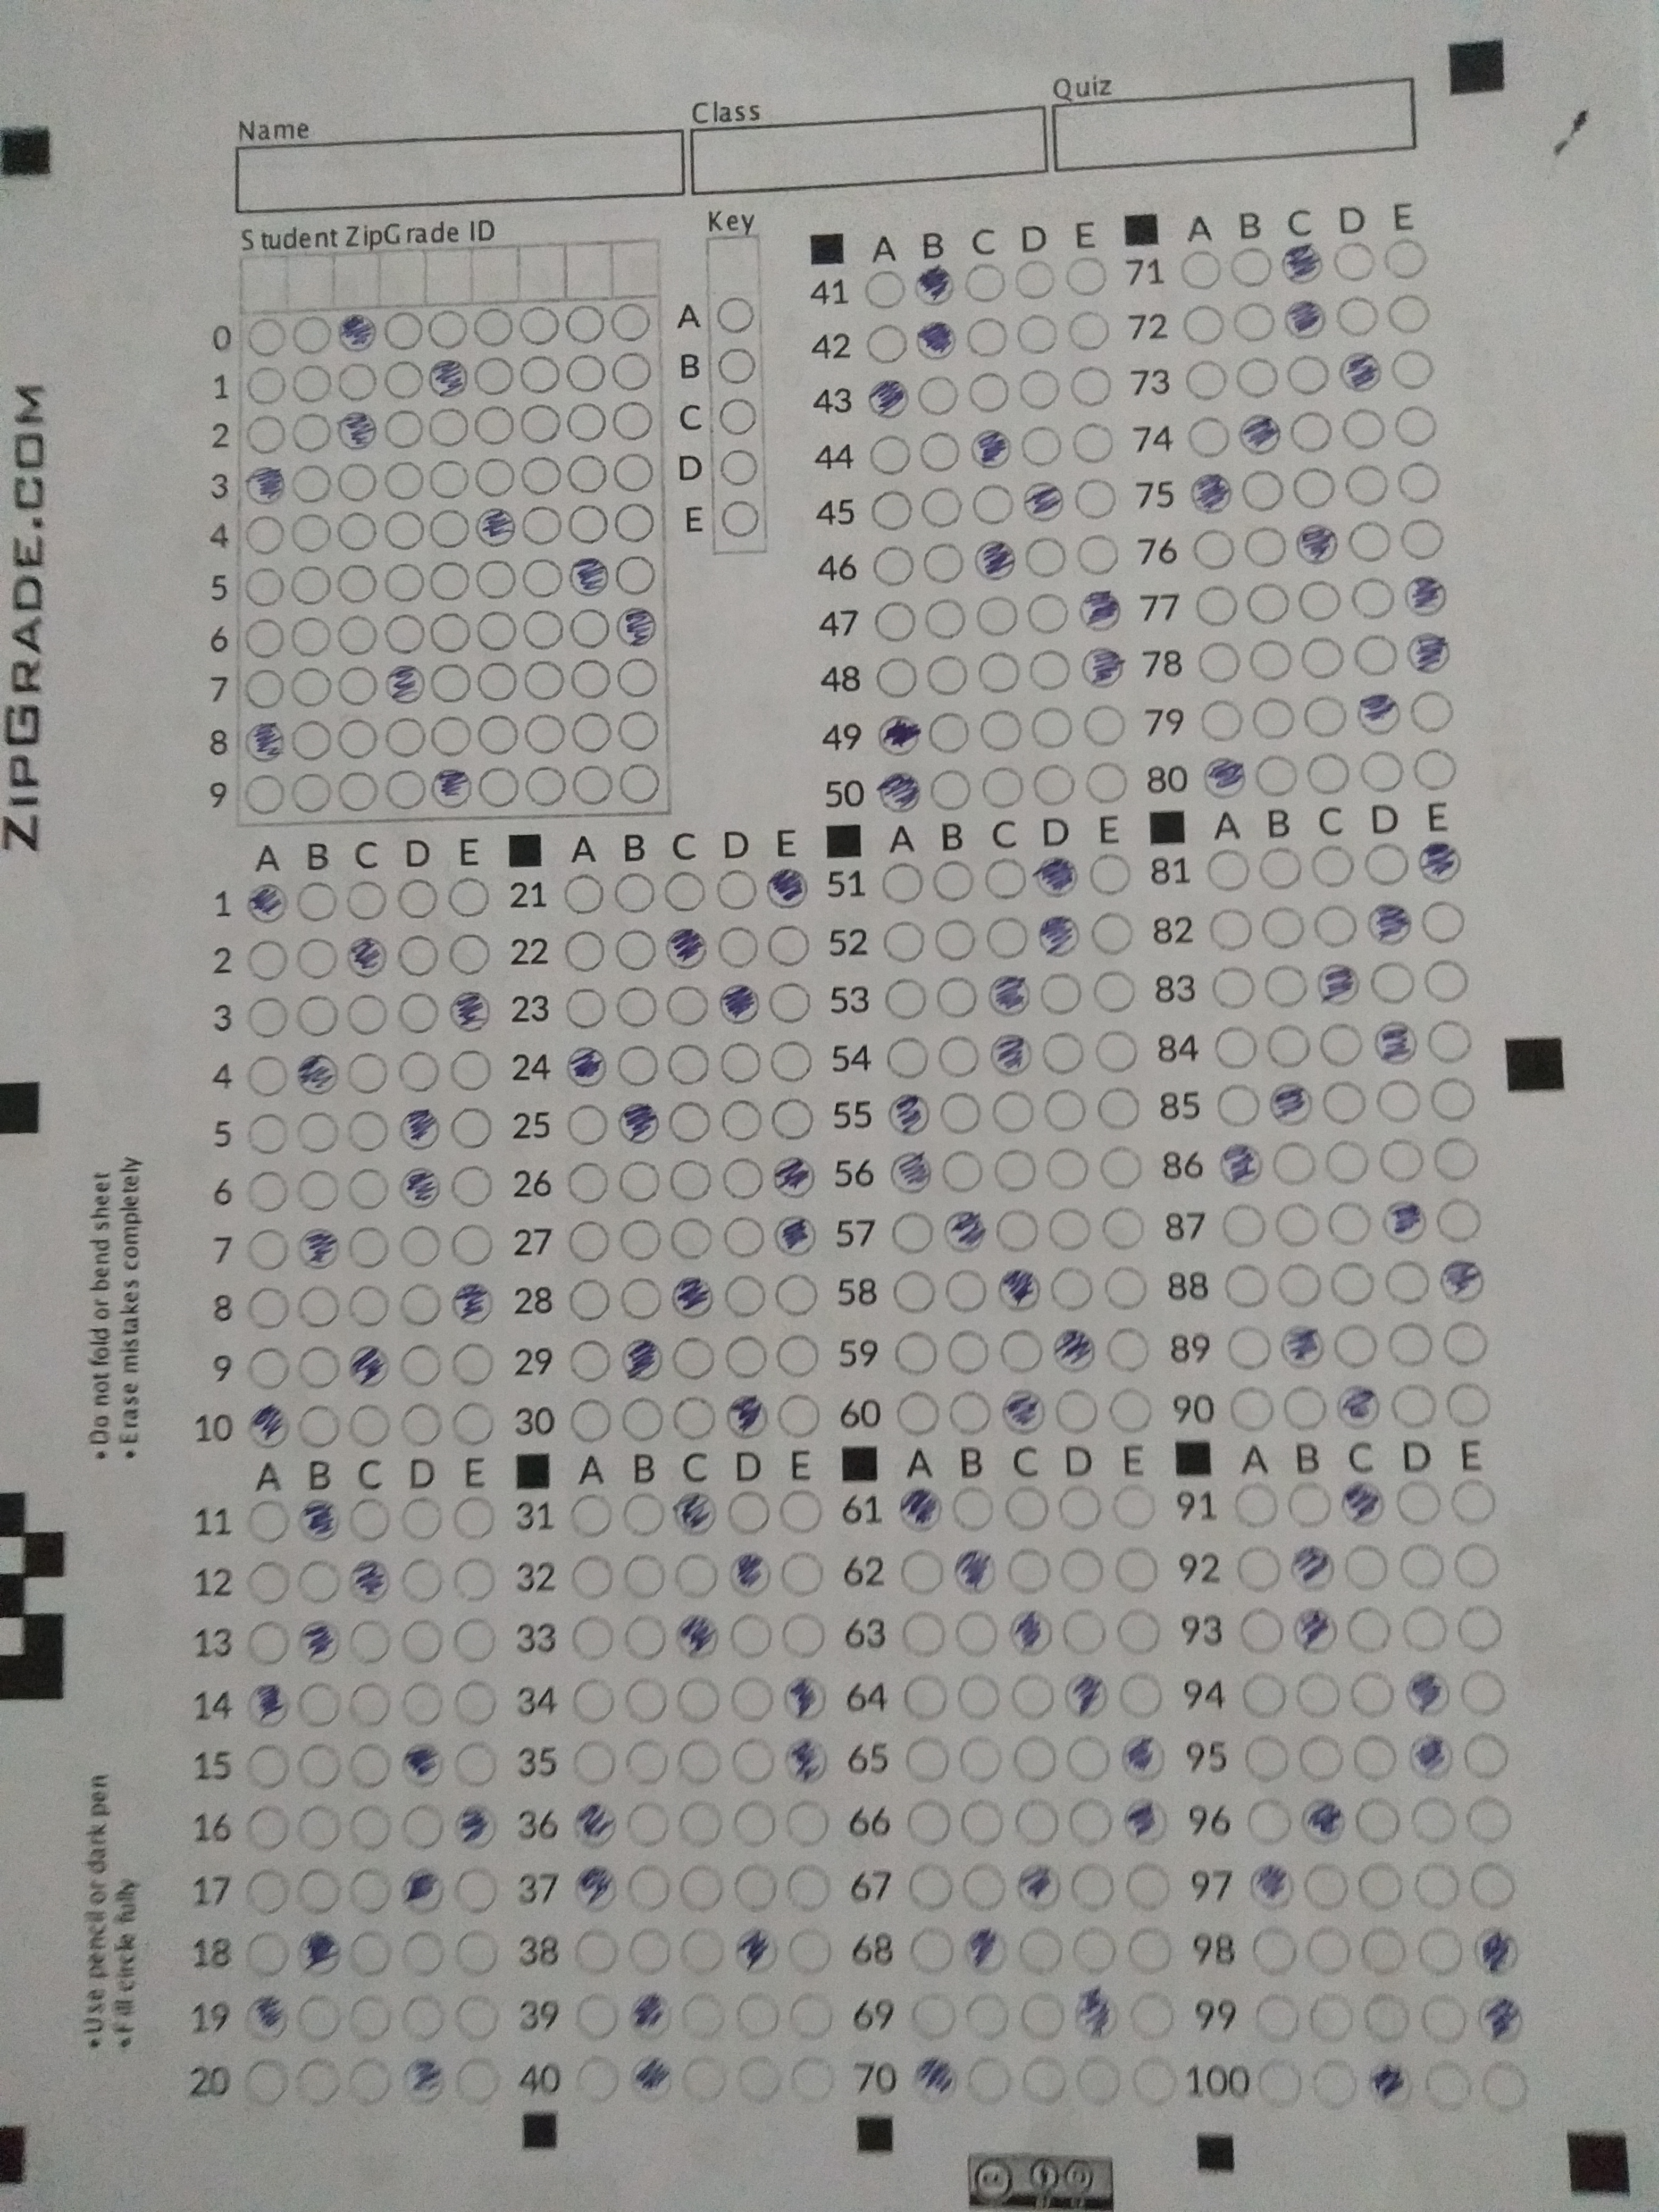not-c: (903, 1857, 958, 1914), (1358, 1987, 1412, 2047), (1230, 1541, 1290, 1594), (904, 1987, 958, 2043), (1420, 2059, 1474, 2114), (1246, 1923, 1302, 1977), (1457, 1667, 1514, 1719), (728, 2052, 788, 2102), (1310, 2052, 1359, 2113), (239, 1923, 291, 1979), (1239, 1728, 1291, 1784), (1255, 2050, 1303, 2109), (788, 2052, 842, 2104), (1127, 2054, 1182, 2106), (1480, 2059, 1532, 2113), (1415, 1993, 1469, 2045), (1410, 1857, 1462, 1911), (1295, 1730, 1349, 1782), (1232, 1601, 1286, 1653), (570, 2048, 620, 2104), (1122, 1925, 1178, 1975), (1460, 1730, 1516, 1780), (1443, 1376, 1493, 1432), (676, 1925, 728, 1977), (1068, 1860, 1121, 1912), (239, 1864, 289, 1918), (570, 1989, 620, 2043), (1117, 1667, 1168, 1721), (1065, 1794, 1115, 1848), (1018, 1989, 1068, 2043), (1251, 1989, 1302, 2043), (1413, 1926, 1467, 1977), (1352, 1860, 1406, 1911), (1392, 1540, 1446, 1590), (676, 1993, 732, 2041), (1349, 631, 1405, 679), (1307, 1987, 1354, 2045), (451, 1862, 502, 1914), (242, 2055, 293, 2107), (568, 1923, 619, 1975), (894, 1545, 945, 1597), (1065, 1730, 1115, 1782), (957, 1796, 1007, 1848), (904, 1925, 957, 1975), (1073, 2054, 1124, 2106), (1356, 1925, 1408, 1975), (1455, 1604, 1506, 1656), (1223, 1383, 1276, 1433), (1429, 1134, 1481, 1184), (1202, 904, 1255, 954), (293, 1864, 342, 1918), (453, 1925, 502, 1979), (1127, 1986, 1176, 2040), (1467, 1857, 1516, 1911), (1354, 1728, 1403, 1782), (242, 1799, 293, 1850), (451, 1993, 502, 2043), (674, 1797, 725, 1848), (622, 1925, 673, 1975), (870, 648, 920, 698), (1103, 1322, 1154, 1372), (1058, 1545, 1108, 1595), (897, 1669, 948, 1719), (1293, 1667, 1344, 1717), (1237, 1669, 1288, 1719), (1452, 1540, 1502, 1590), (786, 1991, 838, 2040), (887, 1264, 939, 1313), (965, 2054, 1014, 2106), (1303, 1923, 1352, 1975), (1239, 1796, 1291, 1844), (1466, 1792, 1514, 1844), (1380, 1258, 1432, 1306), (1194, 697, 1246, 745), (964, 1989, 1011, 2043), (1229, 1480, 1283, 1527), (450, 1738, 498, 1789), (399, 1799, 448, 1850), (347, 1928, 397, 1977), (779, 1611, 829, 1660), (565, 1613, 615, 1662), (566, 1737, 617, 1785), (782, 1797, 833, 1846), (728, 1797, 777, 1848), (786, 1925, 836, 1973), (890, 1325, 939, 1376), (890, 1386, 941, 1435), (1000, 1484, 1051, 1533), (1054, 1482, 1103, 1533), (1006, 1545, 1054, 1595), (1011, 1731, 1060, 1782), (1375, 1134, 1424, 1184), (1314, 1019, 1364, 1068), (1262, 1021, 1312, 1069), (1398, 514, 1448, 563), (399, 1993, 446, 2045), (455, 2055, 502, 2107), (1066, 474, 1119, 521), (1021, 2054, 1068, 2106), (1270, 1202, 1323, 1249), (728, 1737, 777, 1785), (680, 2054, 728, 2102), (1009, 1672, 1058, 1721), (903, 1797, 951, 1846), (1408, 1796, 1457, 1844), (1279, 1385, 1328, 1433), (1223, 1320, 1272, 1369), (1246, 634, 1295, 683), (296, 1738, 343, 1789), (347, 1862, 394, 1912), (296, 2055, 343, 2106), (565, 1493, 615, 1540), (669, 1550, 720, 1597), (1019, 536, 1070, 583), (1091, 1026, 1141, 1073), (1107, 1385, 1154, 1435), (955, 1731, 1002, 1782), (1018, 1925, 1065, 1975), (1302, 1860, 1349, 1911), (1351, 1667, 1398, 1717), (1288, 1479, 1335, 1529), (1218, 1259, 1269, 1306), (1361, 841, 1412, 888), (1309, 838, 1356, 888), (1182, 411, 1232, 458), (674, 1672, 720, 1724), (962, 1860, 1007, 1912), (1126, 1860, 1171, 1912), (399, 1494, 448, 1541), (244, 1557, 291, 1606), (345, 1803, 394, 1850), (296, 1803, 343, 1851), (777, 1487, 826, 1534), (727, 1676, 775, 1723), (626, 1864, 673, 1912), (786, 1865, 835, 1912), (735, 1991, 782, 2040), (870, 596, 918, 643), (976, 650, 1023, 698), (1084, 759, 1133, 806), (951, 1609, 1000, 1656), (897, 1609, 946, 1656), (1012, 1797, 1060, 1846), (1070, 1925, 1117, 1973), (1354, 1797, 1403, 1844), (1345, 1606, 1392, 1655), (1342, 1541, 1389, 1590), (1394, 1479, 1441, 1527), (1450, 1477, 1497, 1526), (1391, 1383, 1438, 1432), (1385, 1322, 1434, 1369), (1326, 1259, 1375, 1306), (1276, 1259, 1323, 1308), (1218, 1200, 1265, 1249), (1436, 1197, 1485, 1244), (1427, 1075, 1476, 1122), (1368, 958, 1417, 1005), (399, 1552, 444, 1602), (401, 1928, 446, 1979), (570, 1674, 615, 1724), (1114, 1608, 1164, 1653), (1063, 1606, 1108, 1656), (904, 1733, 950, 1784), (1424, 1019, 1474, 1064), (1201, 846, 1251, 892), (1303, 749, 1354, 794), (242, 312, 289, 359), (566, 1555, 613, 1602), (676, 1738, 723, 1785), (680, 1864, 727, 1911), (734, 1864, 781, 1911), (1082, 700, 1129, 747), (1030, 759, 1077, 806), (978, 761, 1025, 808), (1087, 850, 1134, 897), (1101, 1263, 1148, 1310), (997, 1325, 1044, 1372), (945, 1327, 992, 1374), (1051, 1386, 1098, 1433), (948, 1486, 995, 1533), (1401, 1604, 1448, 1651), (1333, 1322, 1380, 1369), (1216, 1082, 1263, 1129), (1319, 1080, 1366, 1127), (1260, 904, 1307, 951), (1412, 744, 1459, 791), (1302, 693, 1349, 740), (1297, 578, 1344, 625), (1396, 460, 1443, 507), (239, 563, 288, 608), (296, 1993, 342, 2041), (349, 1993, 394, 2041), (347, 2057, 392, 2106), (620, 1615, 669, 1660), (626, 1737, 671, 1785), (626, 1799, 671, 1848), (864, 430, 913, 475), (978, 707, 1026, 752), (948, 1386, 993, 1435), (1115, 1545, 1161, 1594), (1213, 1021, 1258, 1069), (1419, 900, 1467, 946), (1251, 693, 1297, 742), (1300, 631, 1345, 679), (1244, 580, 1293, 625), (1349, 575, 1398, 620), (1347, 516, 1392, 564), (1188, 526, 1237, 571), (349, 1738, 392, 1789), (624, 1672, 667, 1723), (1330, 294, 1382, 336), (775, 1332, 823, 1378), (453, 1679, 498, 1726), (399, 1616, 444, 1663), (620, 1491, 666, 1538), (725, 1489, 772, 1534), (779, 1550, 824, 1597), (727, 1613, 774, 1658), (924, 596, 971, 641), (974, 592, 1019, 639), (878, 859, 925, 904), (1096, 1083, 1141, 1130), (1096, 1144, 1143, 1190), (993, 1207, 1040, 1252), (1049, 1264, 1094, 1312), (1112, 1482, 1157, 1529), (957, 1672, 1002, 1719), (1443, 1322, 1488, 1369), (1323, 1137, 1370, 1183), (1312, 904, 1359, 949), (1359, 745, 1405, 792), (1241, 467, 1286, 514), (1291, 465, 1337, 512), (1344, 462, 1389, 509), (1284, 352, 1331, 397), (1176, 246, 1223, 291), (349, 1616, 392, 1665), (622, 1550, 666, 1599), (859, 266, 908, 310), (1373, 1078, 1422, 1122), (1208, 965, 1256, 1008), (1422, 958, 1471, 1001), (298, 1677, 340, 1728), (721, 1271, 767, 1317), (775, 1393, 821, 1439), (453, 1557, 498, 1602), (1068, 364, 1114, 409), (1270, 1141, 1316, 1186), (1197, 637, 1243, 683), (1232, 300, 1277, 345), (239, 617, 286, 660), (521, 606, 565, 653), (1063, 253, 1110, 296), (1068, 420, 1115, 463), (969, 482, 1016, 526), (1047, 1207, 1094, 1251), (945, 1264, 988, 1312), (1256, 845, 1303, 888), (1412, 690, 1459, 733), (1391, 345, 1434, 392), (401, 1677, 443, 1726), (1340, 408, 1389, 449), (1382, 239, 1431, 280), (868, 545, 918, 585), (932, 916, 978, 960), (349, 1683, 392, 1728), (453, 1618, 497, 1663), (247, 1620, 291, 1665), (296, 1559, 340, 1604), (1066, 307, 1110, 352), (1016, 312, 1060, 357), (1019, 368, 1063, 413), (1026, 650, 1072, 693), (983, 857, 1028, 900), (1328, 1202, 1373, 1245), (1290, 409, 1335, 453), (1234, 355, 1279, 399), (1183, 357, 1229, 401), (1182, 300, 1225, 345), (1227, 244, 1272, 287), (774, 1273, 821, 1315), (863, 322, 910, 364), (965, 371, 1012, 413), (1262, 965, 1309, 1007), (1394, 406, 1441, 448), (427, 404, 471, 448), (521, 556, 565, 599), (920, 486, 964, 529), (929, 766, 972, 810), (1101, 1205, 1145, 1249), (1195, 583, 1239, 627), (471, 355, 516, 397), (382, 408, 423, 453), (608, 399, 653, 441), (336, 613, 378, 658), (617, 707, 659, 752), (570, 1400, 615, 1442), (1018, 427, 1063, 469), (870, 488, 915, 529), (922, 543, 967, 585), (1025, 592, 1070, 634), (1044, 1148, 1089, 1190), (1075, 535, 1122, 575), (565, 303, 608, 345), (427, 307, 469, 350), (474, 456, 518, 498), (613, 502, 657, 543), (570, 763, 613, 805), (662, 871, 706, 913), (673, 1336, 714, 1379), (918, 428, 962, 470), (1032, 705, 1073, 749), (932, 859, 974, 902), (518, 305, 563, 345), (336, 458, 376, 503), (570, 606, 610, 651), (247, 1743, 288, 1789), (1243, 526, 1288, 566), (1331, 240, 1377, 280), (291, 314, 333, 355), (291, 362, 333, 404), (383, 359, 425, 401), (565, 399, 606, 441), (521, 455, 563, 496), (718, 446, 760, 488), (336, 563, 378, 604), (613, 554, 655, 596), (336, 718, 378, 759), (383, 716, 425, 758), (430, 714, 472, 756), (477, 712, 519, 754), (525, 712, 566, 754), (572, 711, 613, 752), (570, 657, 612, 698), (615, 657, 657, 698), (336, 664, 378, 705), (291, 667, 333, 709), (242, 669, 284, 711), (476, 660, 518, 702), (430, 660, 472, 702), (477, 610, 519, 651), (615, 928, 657, 970), (345, 880, 387, 921), (565, 930, 606, 972), (296, 880, 338, 921), (296, 995, 338, 1036), (347, 993, 389, 1035), (448, 934, 490, 975), (296, 937, 338, 979), (396, 935, 437, 977), (714, 869, 756, 911), (613, 871, 655, 913), (336, 768, 378, 810), (563, 873, 605, 914), (385, 768, 427, 810), (397, 991, 439, 1033), (247, 939, 289, 981), (289, 719, 331, 761), (716, 927, 758, 968), (565, 988, 606, 1029), (397, 1050, 439, 1092), (347, 1052, 389, 1094), (769, 981, 810, 1022), (769, 925, 810, 967), (450, 1106, 491, 1148), (451, 1049, 493, 1090), (884, 920, 925, 961), (770, 1040, 812, 1082), (617, 1043, 659, 1085), (720, 1099, 762, 1141), (772, 1097, 814, 1139), (720, 1042, 762, 1083), (615, 986, 657, 1028), (1040, 972, 1082, 1014), (887, 1036, 929, 1078), (936, 975, 978, 1017), (885, 977, 927, 1019), (296, 1111, 338, 1153), (246, 1054, 288, 1096), (566, 1162, 608, 1204), (399, 1282, 441, 1324), (349, 1226, 390, 1268), (401, 1223, 443, 1264), (451, 1223, 493, 1264), (451, 1165, 493, 1207), (247, 1287, 289, 1329), (298, 1284, 340, 1325), (347, 1284, 389, 1325), (247, 1228, 289, 1270), (1091, 913, 1133, 954), (1044, 1089, 1086, 1130), (992, 1090, 1033, 1132), (941, 1150, 983, 1191), (667, 1042, 709, 1083), (568, 1219, 610, 1261), (620, 1219, 662, 1261), (669, 1217, 711, 1259), (892, 1212, 934, 1254), (725, 1336, 767, 1378), (721, 1216, 763, 1258), (568, 1278, 610, 1320), (620, 1278, 662, 1320), (619, 1160, 660, 1202), (669, 1158, 711, 1200), (721, 1158, 763, 1200), (674, 1397, 716, 1439), (401, 1345, 443, 1386), (451, 1343, 493, 1385), (927, 655, 969, 697), (471, 307, 514, 347), (474, 402, 514, 446), (291, 460, 331, 503), (242, 514, 286, 554), (291, 563, 331, 606), (476, 766, 519, 806), (985, 918, 1028, 958), (965, 317, 1009, 357), (929, 709, 969, 752), (1253, 756, 1297, 796), (1387, 294, 1431, 334), (612, 303, 653, 343), (565, 354, 606, 394), (519, 402, 561, 442), (383, 458, 423, 500), (566, 455, 608, 495), (612, 451, 653, 491), (291, 512, 331, 554), (336, 512, 378, 552), (383, 509, 423, 550), (716, 293, 756, 334), (718, 397, 760, 437), (720, 496, 760, 538), (429, 561, 471, 601), (476, 559, 518, 599), (382, 613, 423, 653), (430, 611, 471, 653), (291, 772, 333, 812), (244, 773, 286, 813), (619, 761, 659, 803), (525, 658, 565, 700), (396, 880, 437, 920), (247, 996, 288, 1038), (525, 766, 566, 806), (448, 876, 488, 918), (568, 1104, 608, 1146), (667, 984, 708, 1026), (1040, 1033, 1082, 1073), (939, 1035, 979, 1076), (247, 1111, 288, 1153), (349, 1109, 389, 1151), (247, 1170, 289, 1211), (298, 1169, 338, 1211), (349, 1169, 389, 1211), (1094, 970, 1134, 1012), (939, 1092, 979, 1134), (568, 1341, 610, 1381), (995, 1150, 1035, 1191), (453, 1402, 493, 1444), (298, 1406, 338, 1447), (349, 1404, 389, 1446), (401, 1404, 443, 1444), (622, 1399, 664, 1439), (349, 1500, 390, 1540), (453, 1496, 493, 1538), (247, 1501, 289, 1541), (298, 1346, 338, 1388), (247, 1348, 289, 1388), (1014, 260, 1056, 300), (918, 373, 958, 415), (336, 362, 380, 401), (519, 507, 563, 545), (964, 263, 1007, 301), (246, 415, 286, 455), (429, 509, 469, 549), (383, 563, 423, 603), (291, 617, 331, 657), (669, 1101, 709, 1141), (246, 364, 288, 402), (521, 354, 559, 395), (291, 411, 329, 453), (382, 312, 422, 350), (612, 352, 652, 390), (429, 460, 469, 498), (568, 503, 606, 543), (716, 345, 756, 383)
taken-c: (1474, 1989, 1528, 2045), (1405, 1730, 1459, 1782), (1298, 1792, 1351, 1846), (1469, 1923, 1520, 1979), (1014, 1858, 1065, 1912), (1072, 1986, 1121, 2041), (1366, 2055, 1415, 2111), (1061, 1669, 1112, 1721), (951, 1545, 1000, 1599), (962, 1923, 1011, 1977), (1248, 1858, 1297, 1912), (240, 1993, 291, 2043), (570, 1864, 620, 1914), (911, 2054, 960, 2106), (1378, 1198, 1431, 1247), (1288, 1541, 1337, 1594), (1121, 1730, 1168, 1784), (1438, 1258, 1488, 1306), (1291, 1606, 1342, 1655), (1405, 1667, 1453, 1717), (734, 1925, 781, 1977), (674, 1609, 721, 1662), (1007, 1606, 1054, 1658), (244, 1679, 293, 1728), (295, 1930, 343, 1979), (399, 2057, 448, 2106), (782, 1737, 831, 1785), (896, 1486, 945, 1534), (1279, 1322, 1328, 1371), (1335, 1383, 1384, 1432), (1338, 1479, 1387, 1527), (572, 1799, 619, 1850), (782, 1672, 829, 1723), (1121, 1796, 1171, 1843), (1077, 643, 1127, 690), (1415, 840, 1466, 887), (613, 1097, 662, 1144), (296, 1618, 345, 1665), (453, 1801, 500, 1850), (627, 1993, 674, 2041), (671, 1489, 718, 1538), (1277, 240, 1326, 287), (1236, 409, 1284, 456), (1356, 690, 1405, 737), (1366, 900, 1415, 948), (1371, 1019, 1419, 1068), (1267, 1080, 1314, 1129), (1218, 1141, 1265, 1190), (403, 1864, 448, 1914), (1405, 631, 1455, 676), (1199, 756, 1249, 801), (1033, 853, 1080, 900), (1037, 913, 1084, 960), (941, 1207, 988, 1254), (1051, 1325, 1098, 1372), (972, 536, 1019, 583), (1337, 348, 1384, 395), (1316, 960, 1363, 1007), (669, 1273, 714, 1322), (988, 1029, 1033, 1078), (1002, 1386, 1047, 1435), (347, 1555, 392, 1604), (727, 1550, 772, 1599), (1405, 570, 1450, 618), (873, 714, 924, 758), (765, 864, 810, 911), (620, 1336, 666, 1383), (725, 1393, 772, 1439), (997, 1266, 1044, 1312), (401, 1742, 446, 1789), (627, 2054, 674, 2099), (1077, 589, 1124, 634), (866, 376, 913, 421), (244, 881, 289, 927), (296, 1224, 342, 1270), (246, 1404, 291, 1449), (889, 1150, 934, 1195), (913, 263, 958, 308), (1188, 470, 1234, 516), (1293, 521, 1338, 566), (718, 979, 762, 1026), (770, 1155, 817, 1198), (772, 1212, 819, 1256), (986, 974, 1033, 1017), (885, 1094, 932, 1137), (878, 768, 922, 815), (335, 408, 380, 451), (343, 934, 389, 977), (448, 989, 493, 1033), (399, 1106, 443, 1151), (397, 1165, 441, 1211), (451, 1280, 495, 1325), (347, 1345, 390, 1390), (664, 927, 709, 970), (565, 1043, 608, 1089), (969, 427, 1014, 470), (915, 319, 960, 362), (1283, 298, 1328, 341), (1019, 481, 1066, 523), (613, 604, 657, 648), (425, 359, 471, 401), (242, 465, 288, 507), (242, 719, 288, 761), (295, 1052, 340, 1094), (335, 312, 378, 354), (430, 768, 474, 810), (296, 1500, 340, 1541), (382, 664, 427, 704), (474, 505, 514, 549), (568, 556, 608, 599)
